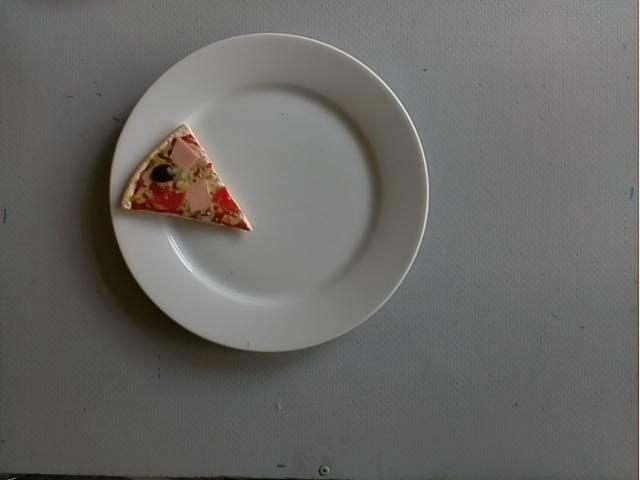Pizza slice (ham): (121, 123, 253, 232)
